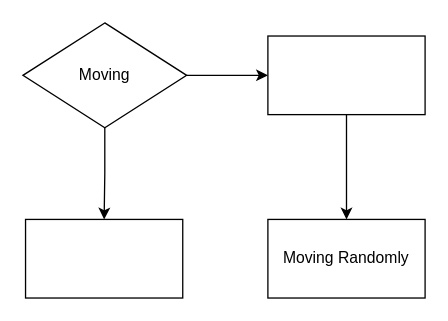
This 448x321 diagram has some shape labels left out. The shapes that lost their labels are listed below. From the top down, each one's centre as x and y in pixels, then its label:
(x=346, y=75): Get X,Y
(x=103, y=258): Moving Towards Player
